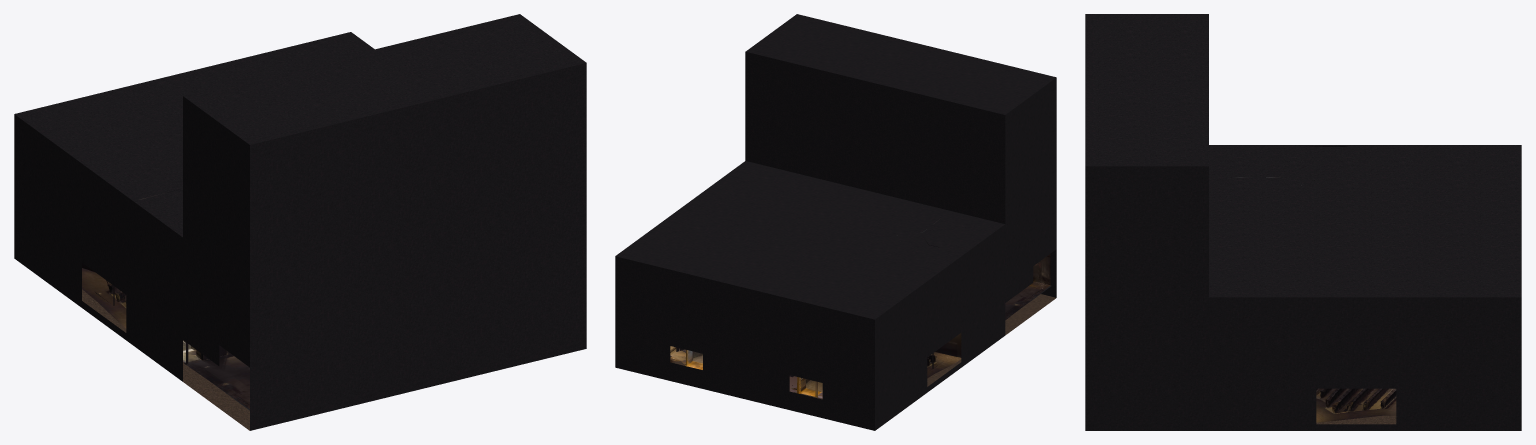
Rendered from midtown-auditorium.glb.
3 views of the same model, side by side, from view 1: azimuth 30°, elevation 25°; view 2: azimuth 150°, elevation 25°; view 3: azimuth 270°, elevation 25° (orthographic). The views are drawn at different scales.
Parts seen in each view (by area): view 1: back_tower, fly_roof, house_ceiling, house_skirt_w, fly_wall_w, front_w, skirting_w_rear, house_floor, Object_8, Object_7, wing_w_top, Object_5; view 2: house_ceiling, pros_upper, house_skirt_s, fly_roof, house_skirt_w, fly_wall_w, skirting_s_mid, front_w, skirting_s_e, skirting_s_w, skirting_w_rear, Object_8 (+6 smaller); view 3: house_ceiling, house_skirt_e, fly_wall_e, fly_roof, void_e, skirting_e_rear, Object_15, Object_10, skirting_e, house_floor.
Boxes of the visible parts, x1=… form: back_tower: x1=250, y1=63, x2=586, y2=430; fly_roof: x1=183, y1=14, x2=586, y2=144; house_ceiling: x1=14, y1=32, x2=374, y2=237; house_skirt_w: x1=14, y1=114, x2=182, y2=335; fly_wall_w: x1=183, y1=96, x2=249, y2=367; front_w: x1=126, y1=277, x2=182, y2=381; skirting_w_rear: x1=14, y1=213, x2=81, y2=307; house_floor: x1=82, y1=289, x2=249, y2=430; Object_8: x1=82, y1=189, x2=182, y2=328; Object_7: x1=183, y1=353, x2=249, y2=381; wing_w_top: x1=183, y1=319, x2=219, y2=365; Object_5: x1=210, y1=371, x2=249, y2=408; house_ceiling: x1=615, y1=161, x2=1004, y2=319; pros_upper: x1=745, y1=51, x2=1005, y2=223; house_skirt_s: x1=615, y1=256, x2=874, y2=395; fly_roof: x1=746, y1=14, x2=1056, y2=114; house_skirt_w: x1=875, y1=224, x2=1005, y2=395; fly_wall_w: x1=1005, y1=78, x2=1056, y2=286; skirting_s_mid: x1=703, y1=354, x2=789, y2=409; front_w: x1=961, y1=287, x2=1005, y2=367; skirting_s_e: x1=615, y1=332, x2=670, y2=380; skirting_s_w: x1=822, y1=383, x2=874, y2=430; skirting_w_rear: x1=875, y1=358, x2=927, y2=430; Object_8: x1=670, y1=219, x2=961, y2=396; house_ceiling: x1=1209, y1=145, x2=1521, y2=297; house_skirt_e: x1=1209, y1=297, x2=1521, y2=388; fly_wall_e: x1=1085, y1=166, x2=1208, y2=372; fly_roof: x1=1085, y1=14, x2=1208, y2=166; void_e: x1=1085, y1=372, x2=1316, y2=430; skirting_e_rear: x1=1396, y1=388, x2=1521, y2=430; Object_15: x1=1314, y1=179, x2=1396, y2=422; Object_10: x1=1234, y1=177, x2=1396, y2=422; skirting_e: x1=1314, y1=424, x2=1396, y2=430; house_floor: x1=1316, y1=415, x2=1396, y2=424.
Bounding box in the file's own units: 19.8 × 16.06 × 24.
16 materials, 16 textured.
